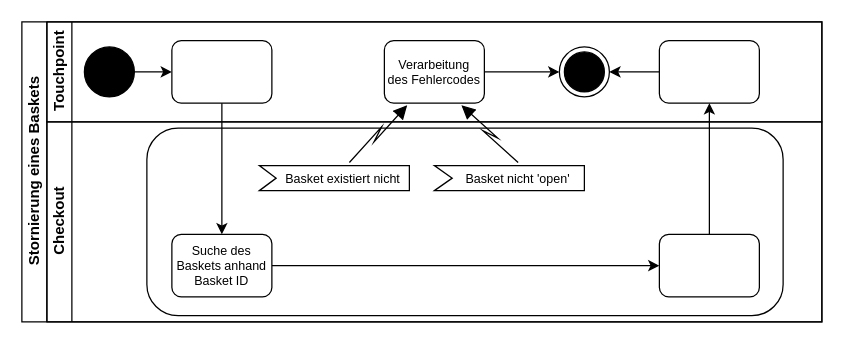
Image size: 843x343. Some labels were removed from this diagram. Each missing label, with the centre of its shape:
"Anzeigen einer Erfolgsmeldung" belongs at point (708, 71).
"Bsp. Kunde hat nicht genügend Geld bei sich" belongs at point (221, 71).
"Stornierung des Baskets" belongs at point (708, 265).
